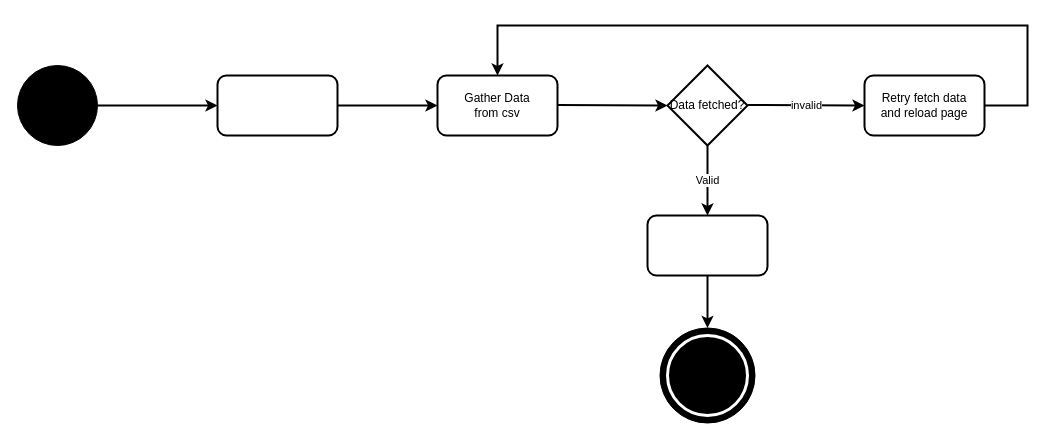
This 1054x440 diagram has some shape labels left out. The shapes that lost their labels are listed below. From the top down, each one's box as (x1, y1, x2, y2) in pixels, then its label:
(216, 74, 338, 136): Displaying data
(646, 214, 768, 276): Display Data (success)
